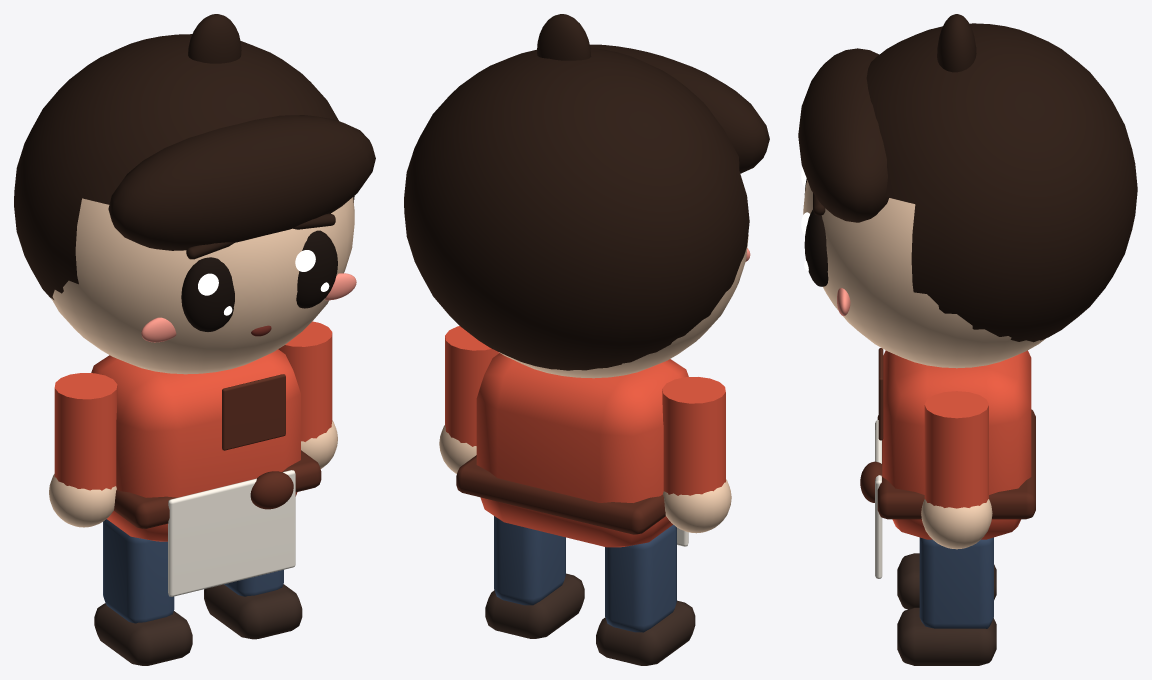
The model's file is chibi.glb.
The picture shows the model from 3 angles, left to right: view 1: azimuth 30°, elevation 25°; view 2: azimuth 150°, elevation 25°; view 3: azimuth 270°, elevation 25°; orthographic projection.
Visible parts, largest first — view 1: HairBack, Head, Bangs, Body, Apron, ArmL, LegL, ArmR, Collar, FootL, FootR, EyeL (+9 smaller); view 2: HairBack, Body, ArmL, LegL, Belt, LegR, Bangs, ArmR, FootL, FootR, Head, HandL (+2 smaller); view 3: HairBack, Head, Body, Bangs, ArmR, LegR, FootR, Belt, HandR, Tuft, EyeR, FootL (+3 smaller).
Boxes of the visible parts, x1=… form: HairBack: x1=14, y1=34, x2=354, y2=299; Head: x1=51, y1=197, x2=354, y2=374; Bangs: x1=108, y1=115, x2=375, y2=250; Body: x1=91, y1=349, x2=300, y2=541; Apron: x1=168, y1=470, x2=295, y2=596; ArmL: x1=54, y1=373, x2=117, y2=490; LegL: x1=103, y1=519, x2=174, y2=623; ArmR: x1=278, y1=321, x2=332, y2=441; Collar: x1=222, y1=374, x2=285, y2=450; FootL: x1=94, y1=603, x2=192, y2=665; FootR: x1=204, y1=584, x2=302, y2=639; EyeL: x1=181, y1=257, x2=234, y2=331; HairBack: x1=404, y1=48, x2=749, y2=370; Body: x1=476, y1=353, x2=688, y2=547; ArmL: x1=662, y1=377, x2=725, y2=495; LegL: x1=605, y1=524, x2=676, y2=632; Belt: x1=456, y1=455, x2=665, y2=534; LegR: x1=494, y1=516, x2=565, y2=605; Bangs: x1=590, y1=44, x2=769, y2=173; ArmR: x1=445, y1=326, x2=499, y2=446; FootL: x1=596, y1=600, x2=695, y2=665; FootR: x1=485, y1=573, x2=584, y2=638; Head: x1=499, y1=235, x2=748, y2=378; HandL: x1=663, y1=479, x2=731, y2=533; HairBack: x1=866, y1=23, x2=1137, y2=342; Head: x1=803, y1=180, x2=1044, y2=368; Body: x1=882, y1=350, x2=1031, y2=539; Bangs: x1=798, y1=48, x2=888, y2=222; ArmR: x1=924, y1=391, x2=988, y2=508; LegR: x1=919, y1=537, x2=993, y2=628; FootR: x1=897, y1=607, x2=996, y2=665; Belt: x1=877, y1=409, x2=1035, y2=519; HandR: x1=921, y1=499, x2=992, y2=549; Tuft: x1=937, y1=14, x2=976, y2=72; EyeR: x1=804, y1=210, x2=828, y2=286; FootL: x1=897, y1=553, x2=996, y2=609.
Bounding box in the file's own units: 0.72 × 1.39 × 0.685.
